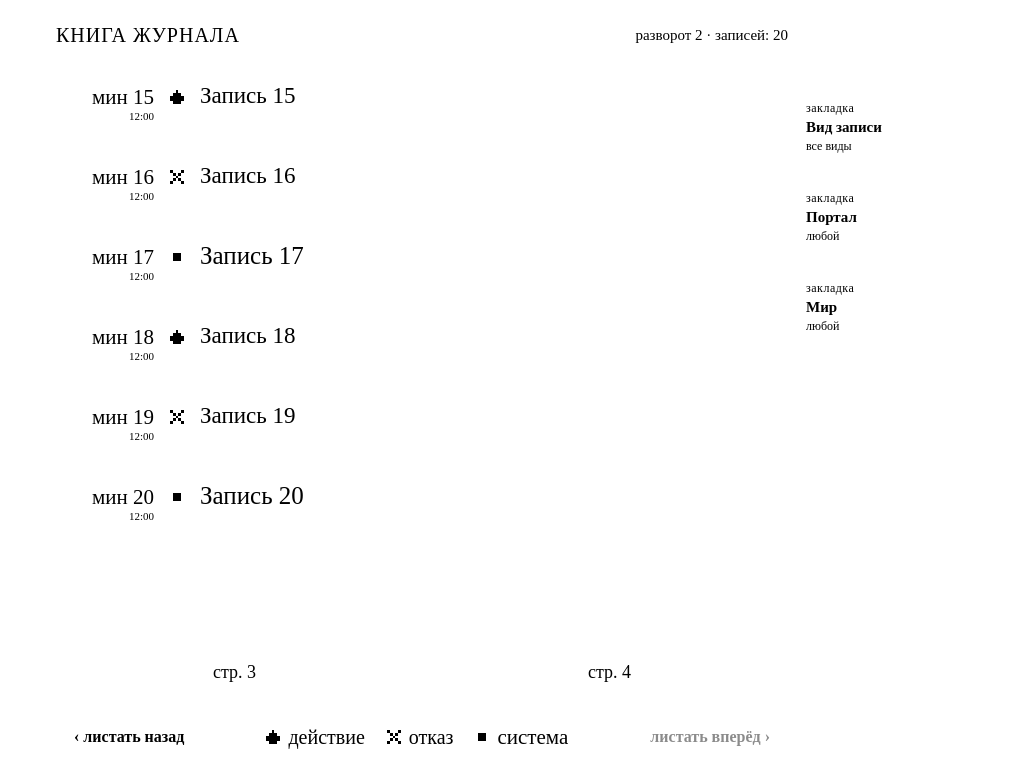
Test case: Книга журнала (spec §8, §9) › страницы и разворот › на листе семь записей: левая страница заполняется первой
Click the button with aria-label "Предыдущий разворот" at (129, 737), box [56, 715, 202, 759]
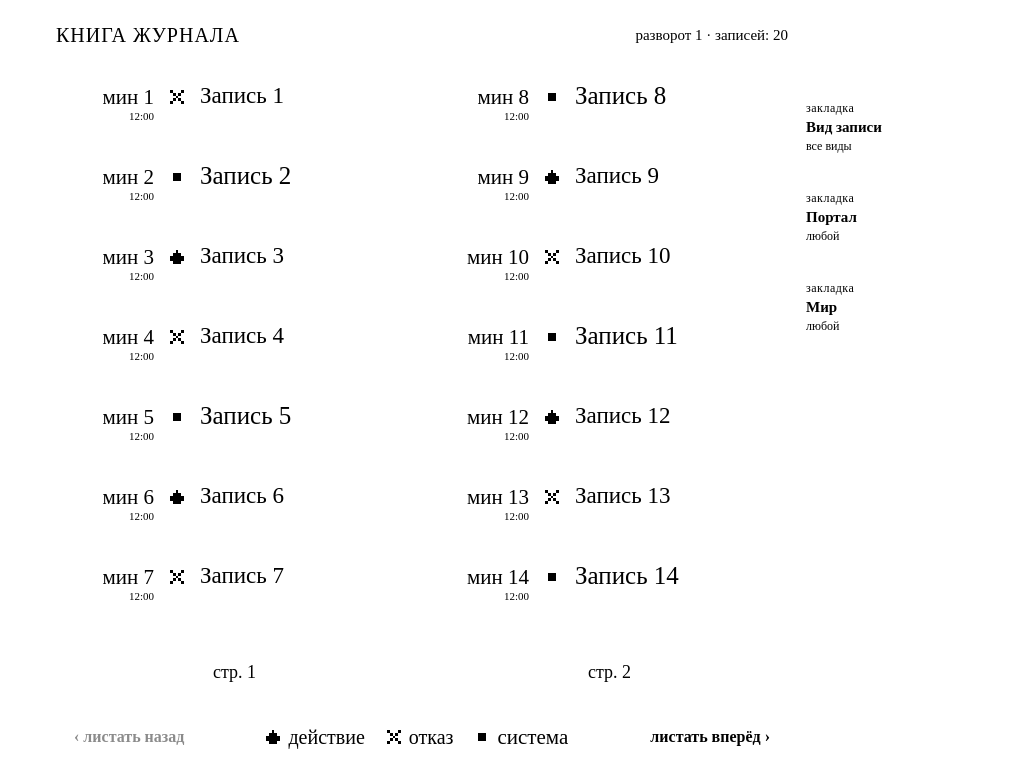
Expected: the text "разворот 1 · записей: 20" is shown, [635, 27, 788, 44]
